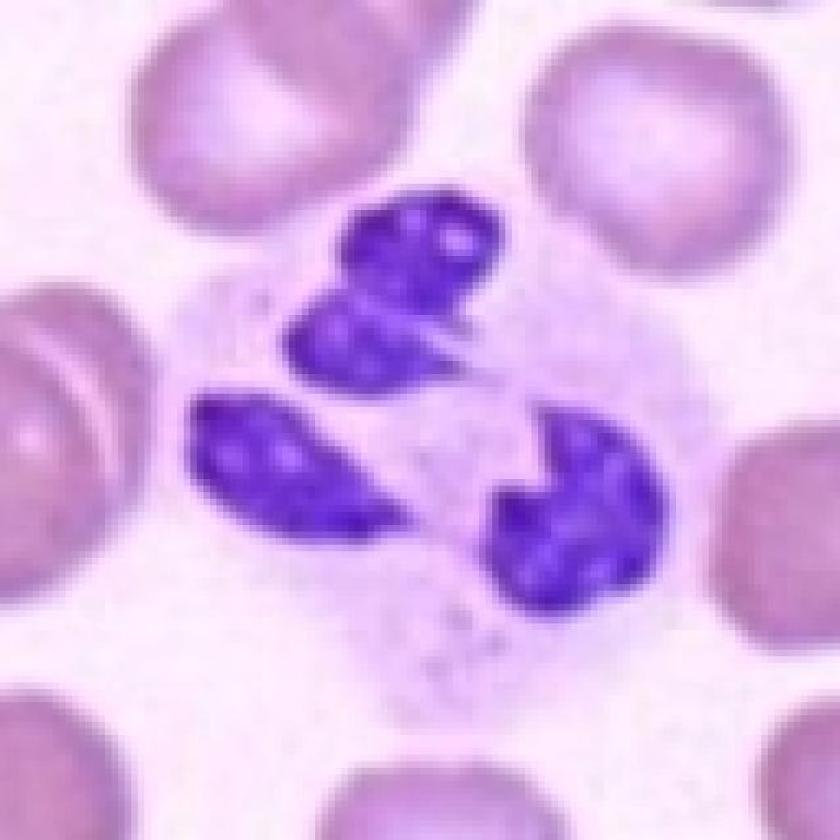neutrophil: (133, 173, 730, 724)
